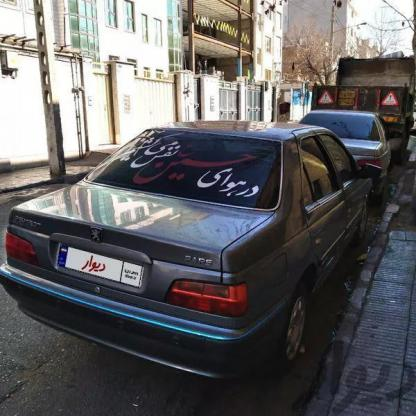Car: (0, 107, 352, 402), (288, 110, 403, 195)
Truck: (303, 56, 415, 154)
